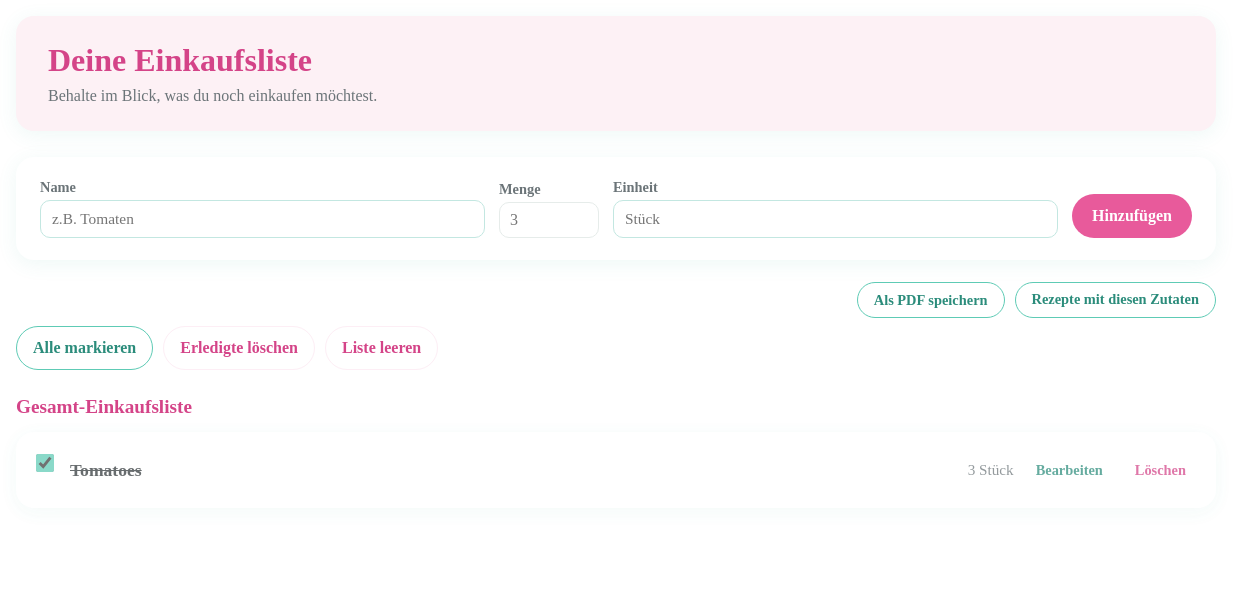
Test case: ShoppingListView › shows inline edit form when edit is clicked
The width and height of the screenshot is (1233, 597).
Click the button with class "edit-btn". click: (1069, 470)
box: x1=1026 y1=450 x2=1113 y2=490
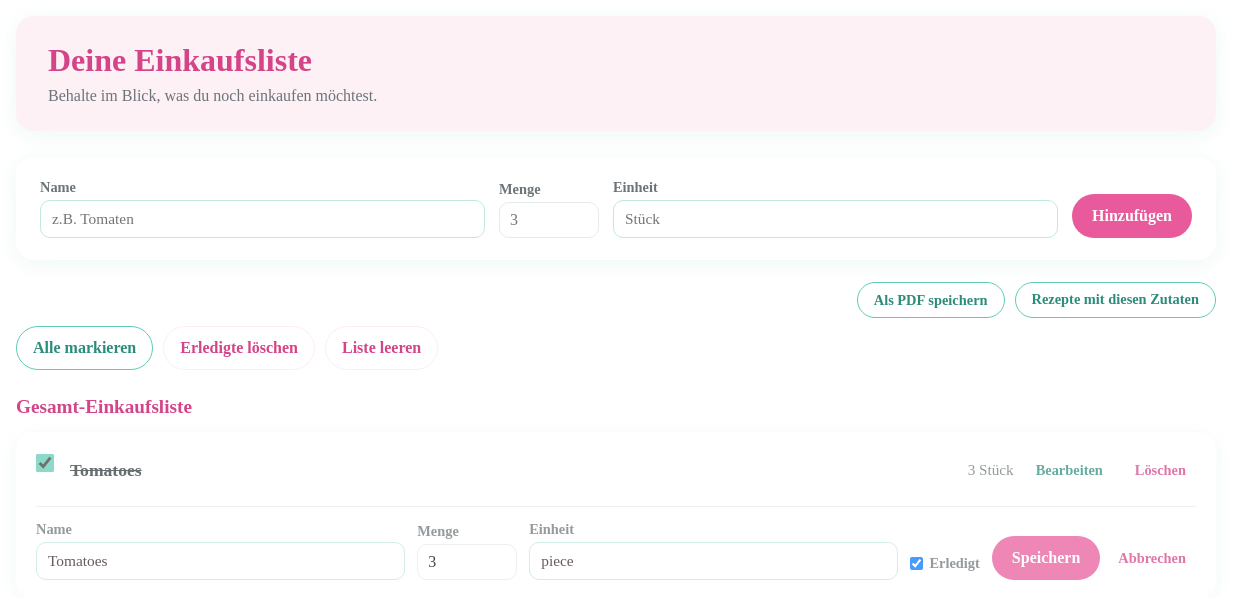
Expected: the heading "Tomatoes" is shown, x1=70 y1=460 x2=142 y2=480
Expected: the form with class "edit-form" is shown, x1=36 y1=506 x2=1196 y2=580
